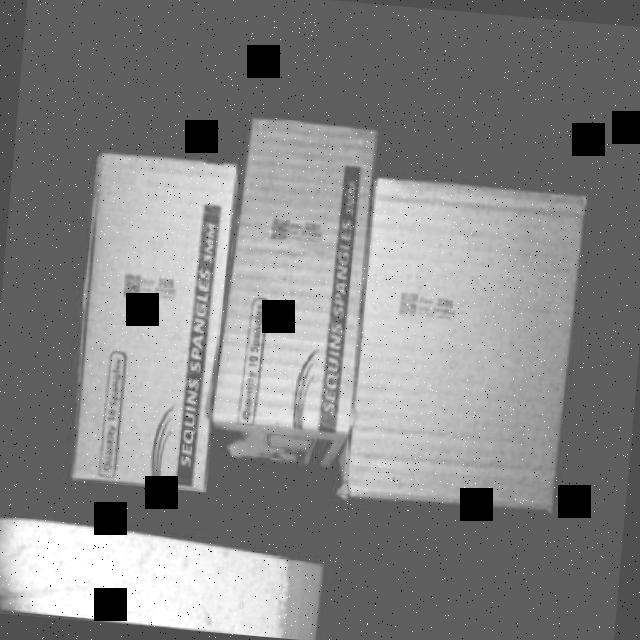box: (343, 180, 580, 510), (64, 152, 240, 490), (222, 119, 379, 437)
